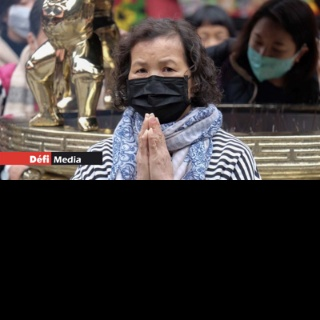with_mask: (124, 57, 192, 124), (247, 28, 295, 83)
